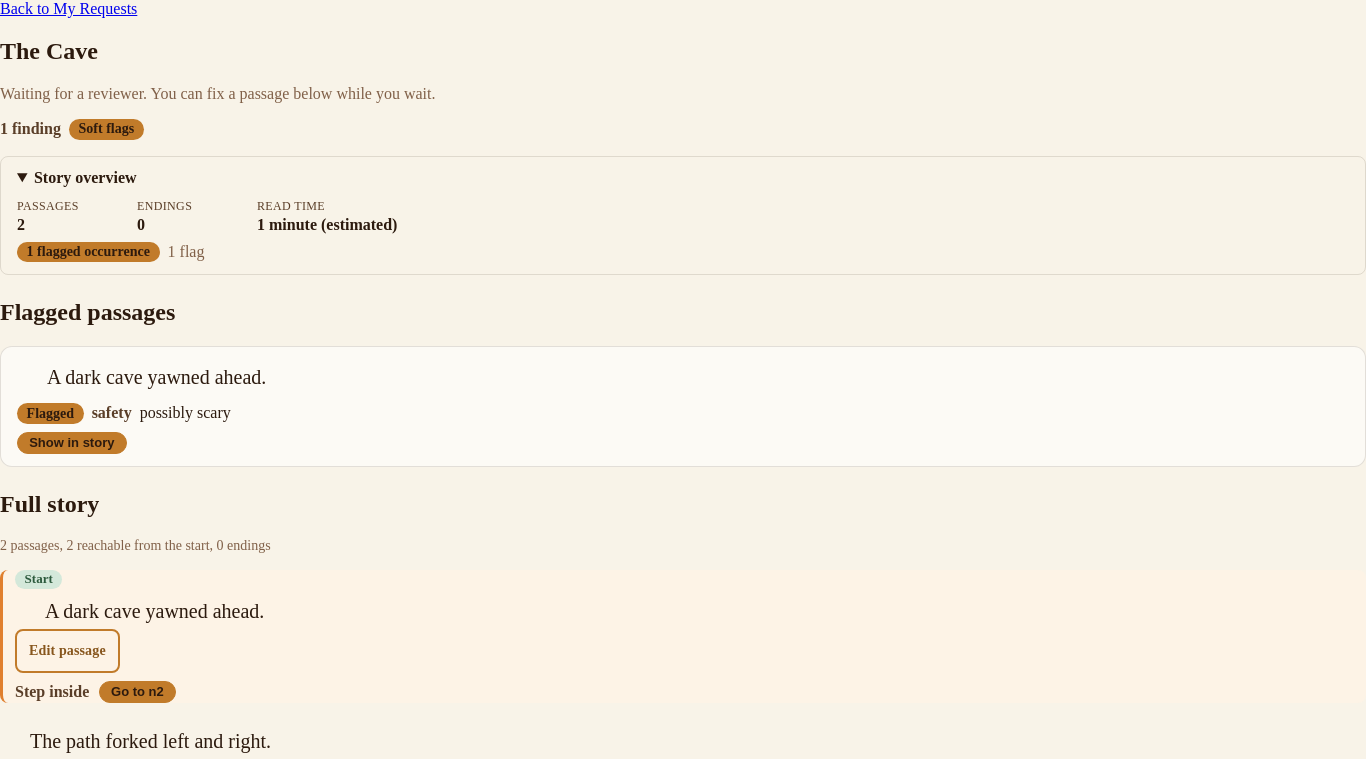
Test: GuardianReviewDetailPage › passage edit (G6) › opens the edit dialog prefilled with the passage body and choice labels
Click the 1st button "Edit passage": (67, 651) [15,629,120,673]
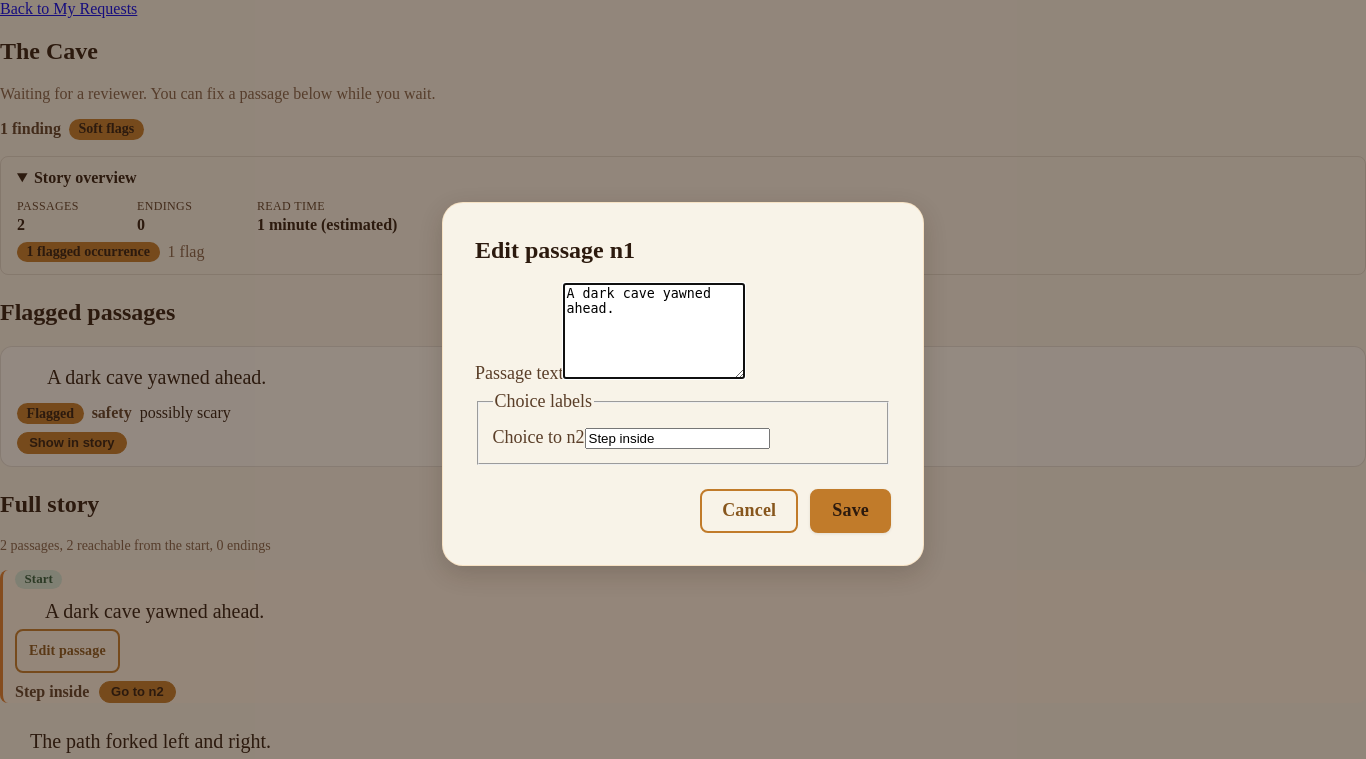
Expected: the text box labelled "Passage text" holds "A dark cave yawned ahead.", [564,283,746,379]
Expected: the field labelled "Choice to n2" holds "Step inside", [584,428,770,448]
